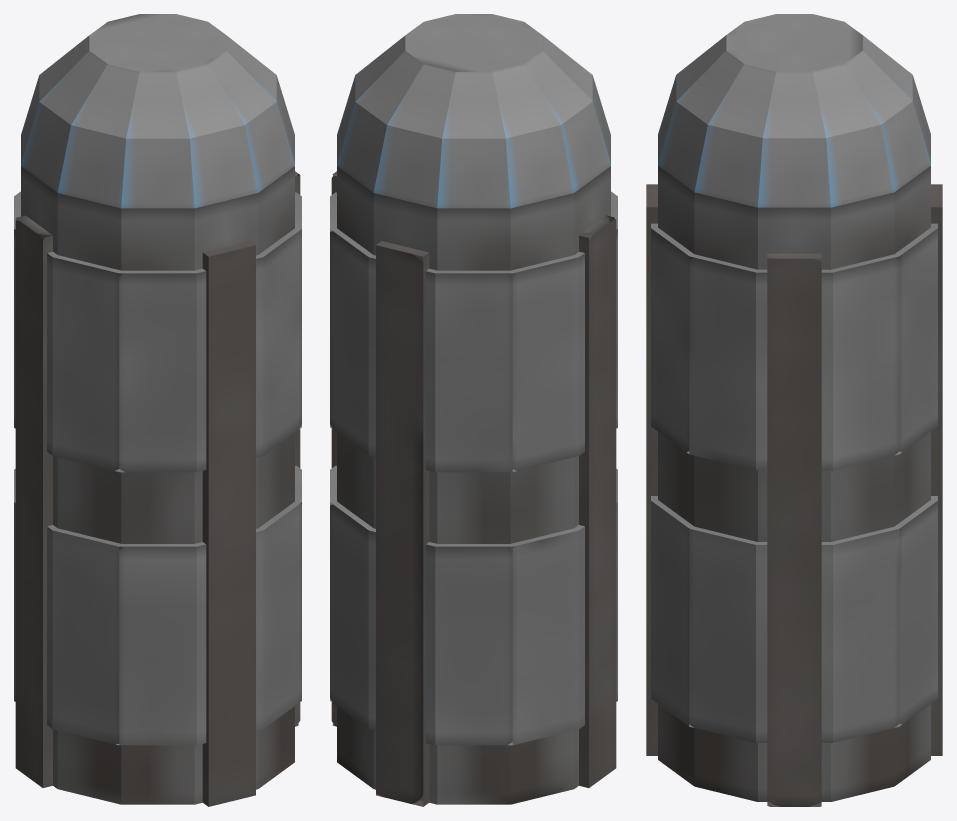
File: centrifuge_conus.obj
The picture shows the model from 3 angles, left to right: view 1: azimuth 30°, elevation 25°; view 2: azimuth 150°, elevation 25°; view 3: azimuth 270°, elevation 25°; orthographic projection.
Visible parts, largest first — view 1: 1; view 2: 1; view 3: 1.
Part boxes in pixels (x1=…): 1: x1=14, y1=14, x2=301, y2=806; 1: x1=330, y1=14, x2=617, y2=806; 1: x1=646, y1=14, x2=942, y2=806.
Size of the model in its own units: 0.6781 by 1.77 by 0.6781.
